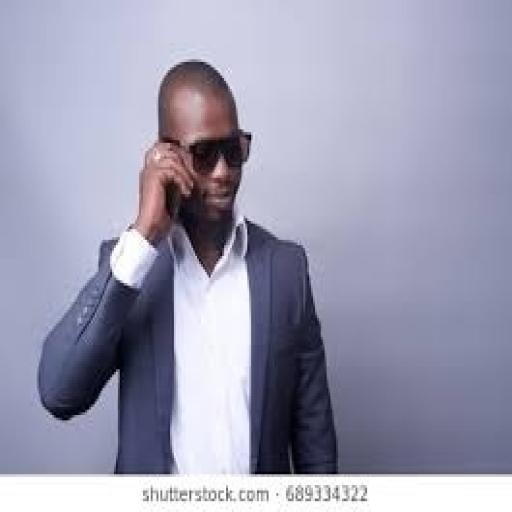calling: (35, 57, 340, 474)
